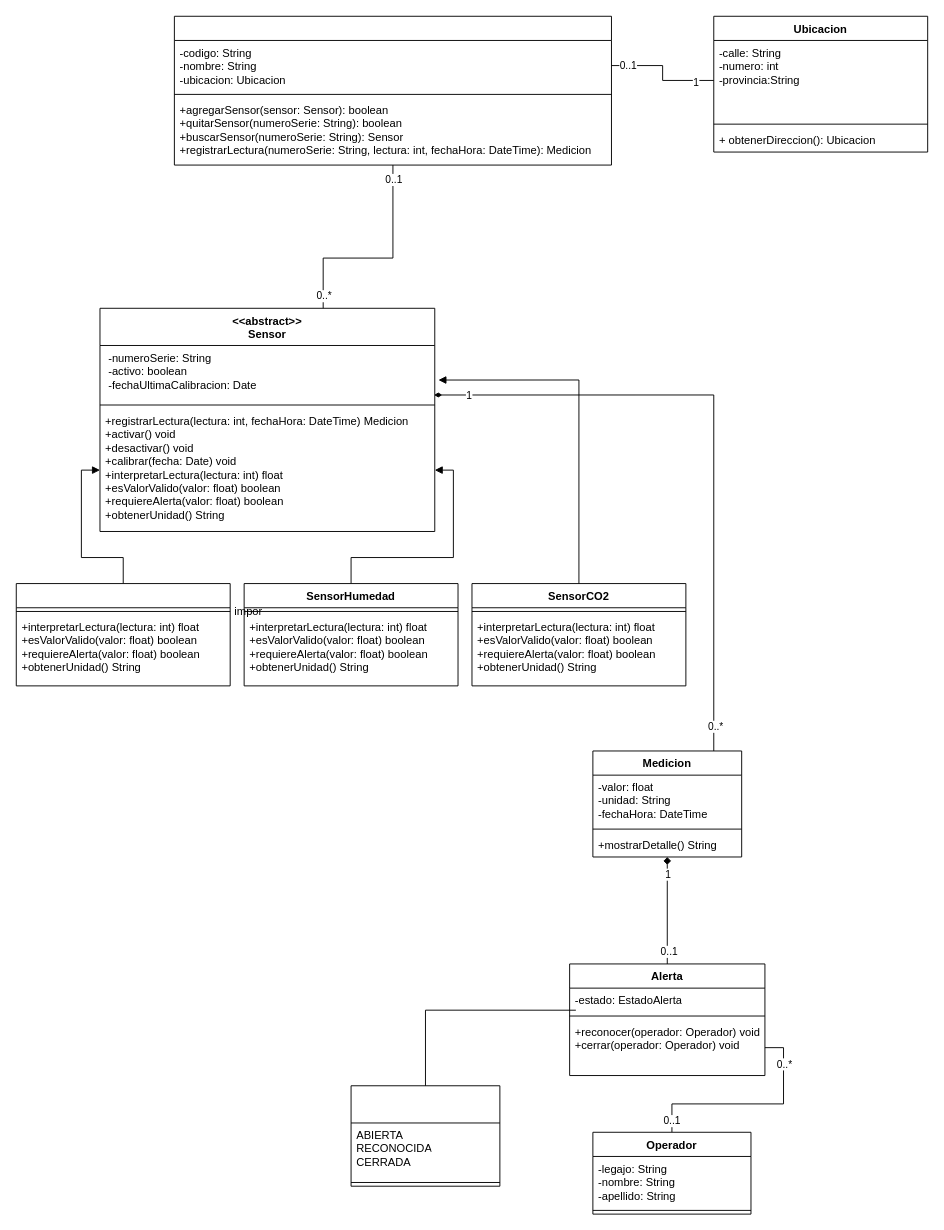
The diagram is 944 pixels wide and 1230 high, and some of its shapes have lost their labels. The shapes that lost their labels are listed below. From the top down, each one's box as (x1, y1, x2, y2) in pixels, then its label:
(173, 15, 611, 165): Estacion
(15, 583, 230, 686): SensorTemperatura
(350, 1085, 500, 1186): <<enumeration>> EstadoAlerta
